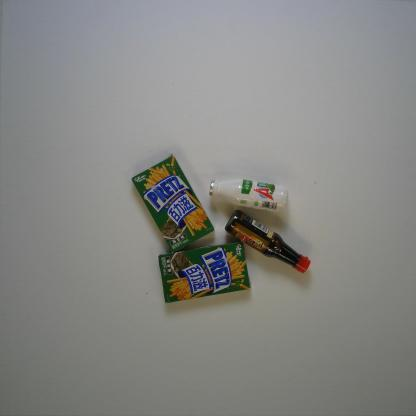Dessert: (131, 153, 216, 254), (158, 241, 251, 304)
Milk: (209, 178, 289, 214)
Seasoner: (224, 209, 312, 274)
